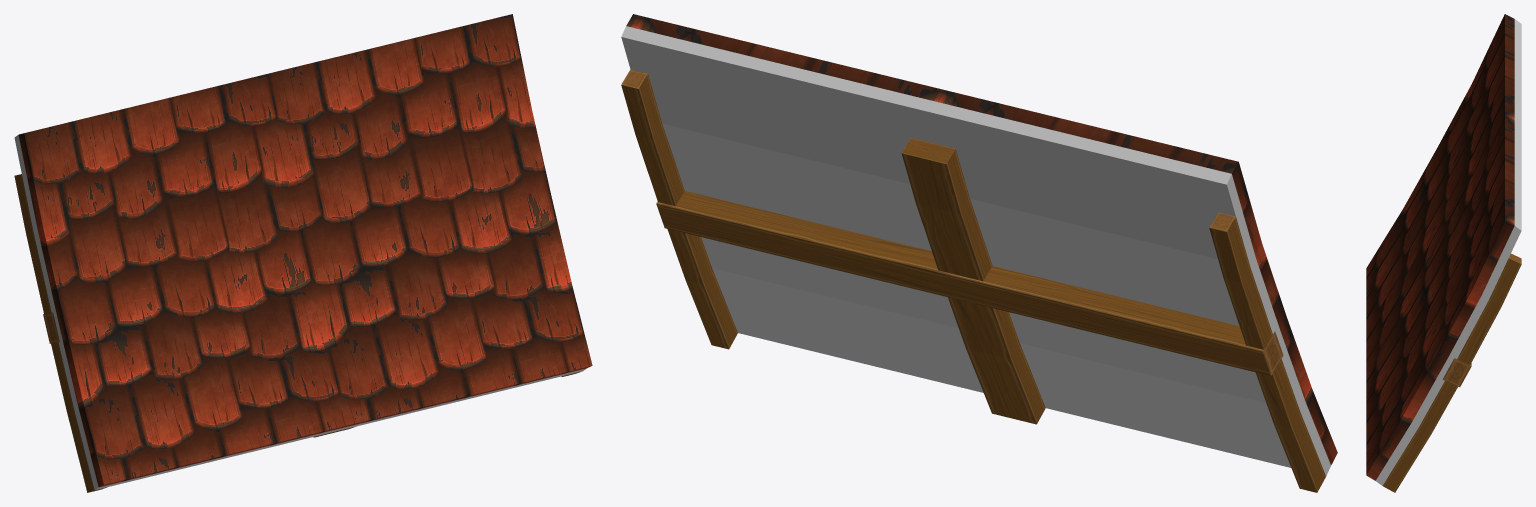
Rendered from SM_House_Roof_01_Tiling_TopExtended.fbx.
3 renders of one model, left to right at view 1: azimuth 30°, elevation 25°; view 2: azimuth 150°, elevation 25°; view 3: azimuth 270°, elevation 25°, orthographic. The views are drawn at different scales.
Visible parts, largest first — view 1: SM_House_Roof_01_Tiling_TopExtended; view 2: SM_House_Roof_01_Tiling_TopExtended; view 3: SM_House_Roof_01_Tiling_TopExtended.
Part boxes in pixels (x1,y1,x2,y2): SM_House_Roof_01_Tiling_TopExtended: (14,14,592,492); SM_House_Roof_01_Tiling_TopExtended: (621,14,1337,492); SM_House_Roof_01_Tiling_TopExtended: (1366,14,1521,492).
Bounding box in the file's own units: 5.01 × 3.07 × 1.59.
